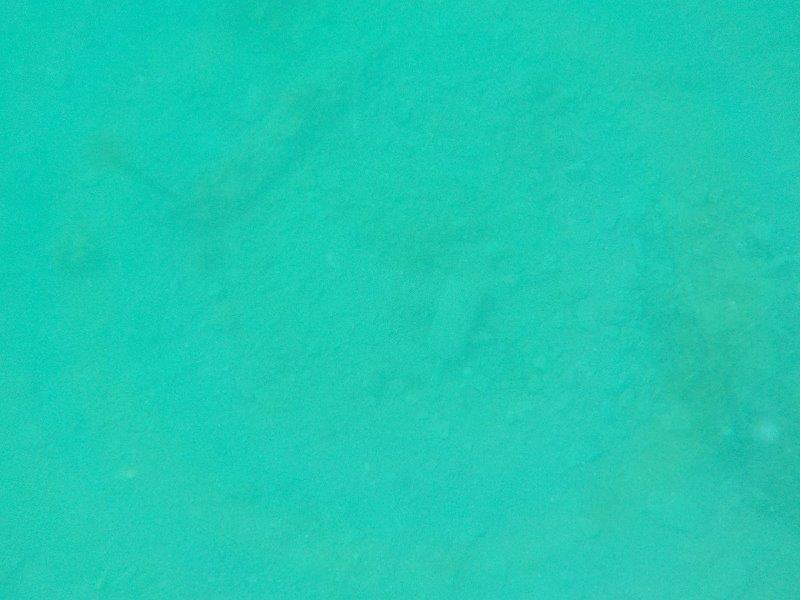bottle: (418, 274, 490, 395)
